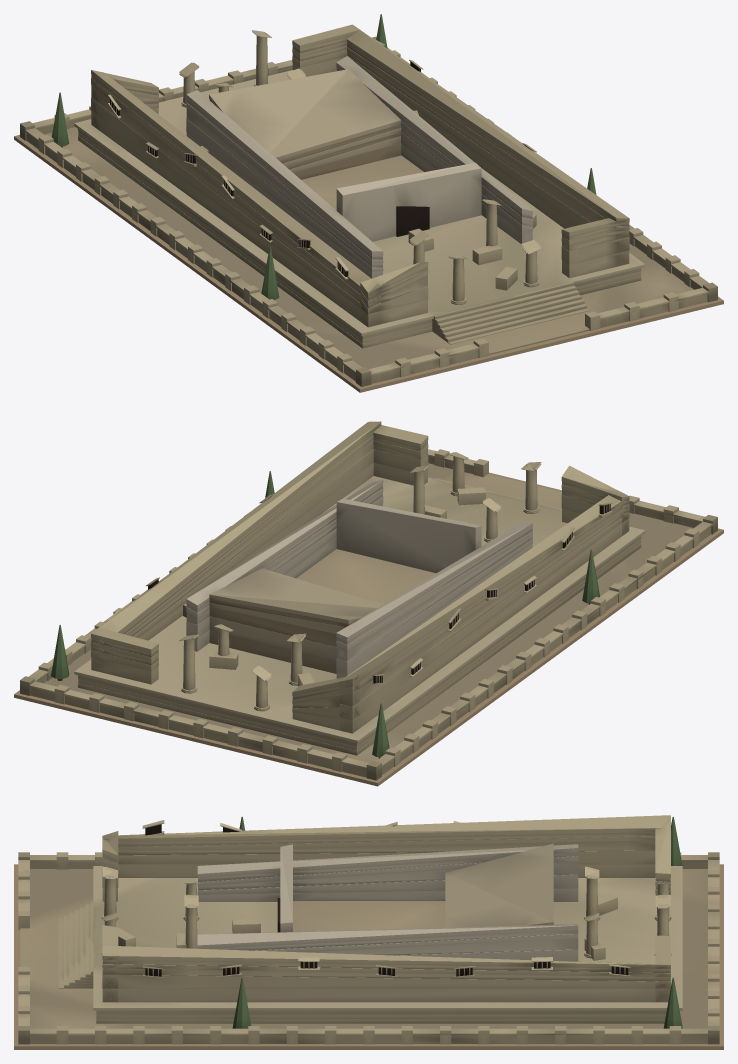
File: jandial-ruin.glb
3 renders of one model, top to bottom at view 1: azimuth 30°, elevation 25°; view 2: azimuth 150°, elevation 25°; view 3: azimuth 270°, elevation 25°, orthographic. The views are drawn at different scales.
Parts seen in each view (by area): view 1: p1_walls and columns, p0_plinth, p2_fallen columns; view 2: p1_walls and columns, p0_plinth, p2_fallen columns; view 3: p1_walls and columns, p0_plinth, p2_fallen columns.
Part boxes in pixels (box(x1,y1,x2,y2)): p1_walls and columns: box(91, 24, 629, 327); p0_plinth: box(14, 14, 723, 392); p2_fallen columns: box(200, 110, 536, 290); p1_walls and columns: box(91, 421, 629, 733); p0_plinth: box(14, 449, 723, 786); p2_fallen columns: box(183, 487, 485, 686); p1_walls and columns: box(101, 815, 671, 1002); p0_plinth: box(14, 816, 723, 1049); p2_fallen columns: box(118, 893, 617, 960).
Size of the model in its own units: 34 by 7 by 56.
